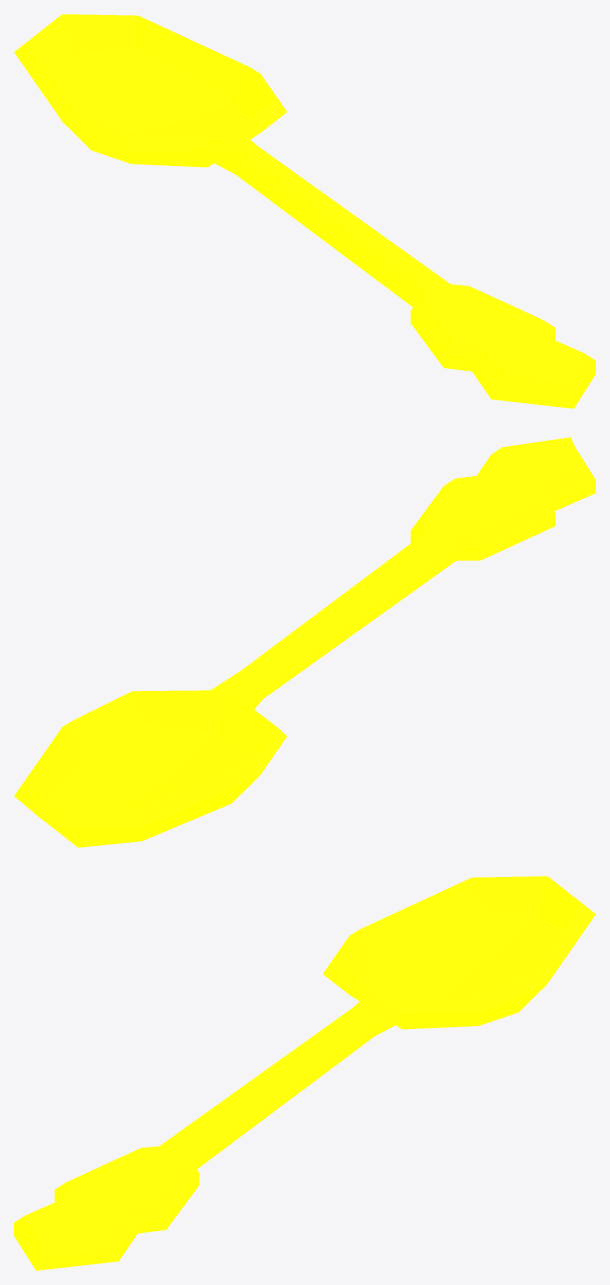
Rendered from cutlery-spoon-christmas.glb.
3 views of the same model, one above another, from view 1: azimuth 30°, elevation 25°; view 2: azimuth 150°, elevation 25°; view 3: azimuth 330°, elevation 25° (orthographic).
Visible parts, largest first — view 1: cutlery_spoon_christmas; view 2: cutlery_spoon_christmas; view 3: cutlery_spoon_christmas.
Part boxes in pixels (x1,y1,x2,y2): cutlery_spoon_christmas: [14, 14, 595, 408]; cutlery_spoon_christmas: [14, 437, 595, 847]; cutlery_spoon_christmas: [14, 876, 595, 1270].
Bounding box in the file's own units: 0.0598 × 0.0171 × 0.2704.
1 material, 1 textured.
